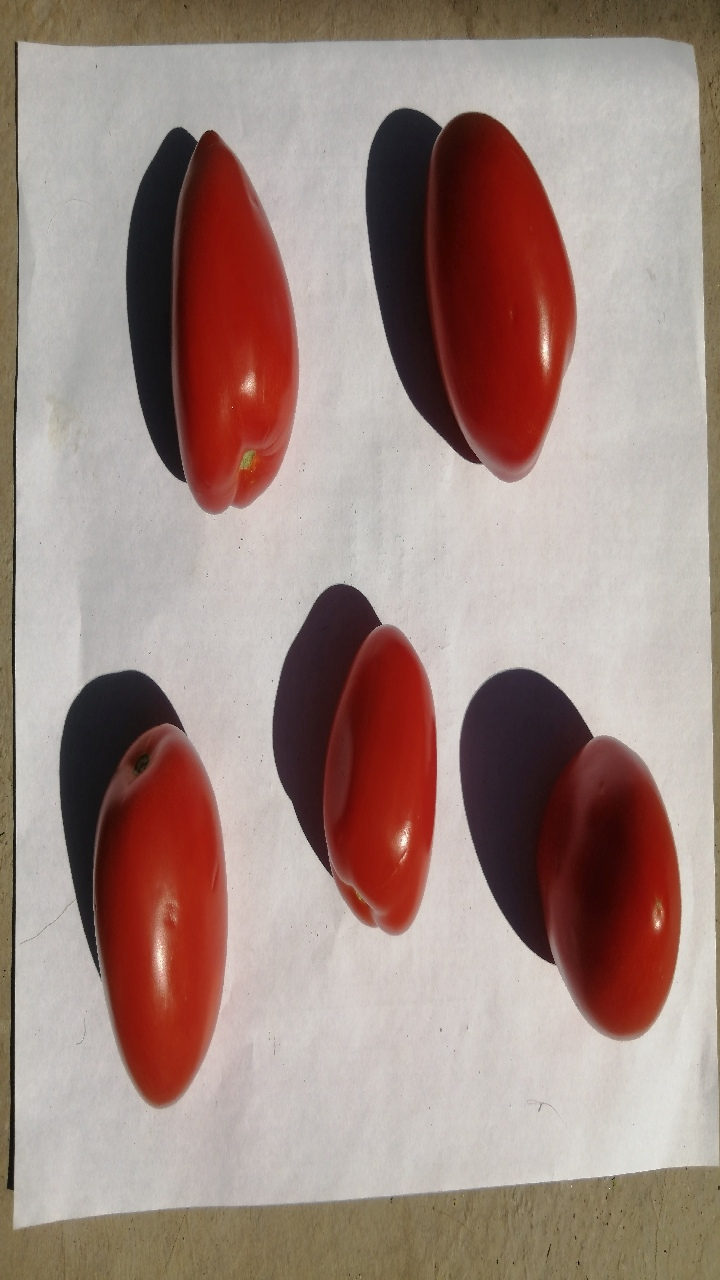tomateRojo: (120, 106, 355, 535), (388, 92, 604, 505), (506, 659, 703, 1075), (69, 689, 263, 1105), (288, 625, 471, 966)
